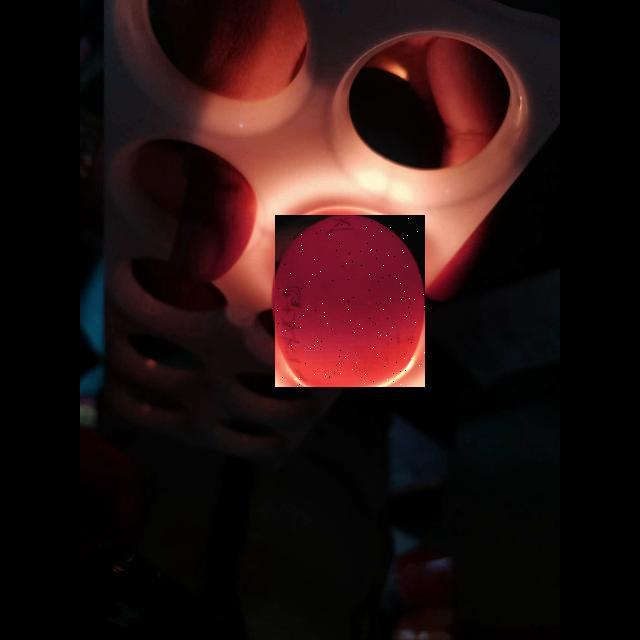Infertile: (275, 215, 425, 387)
